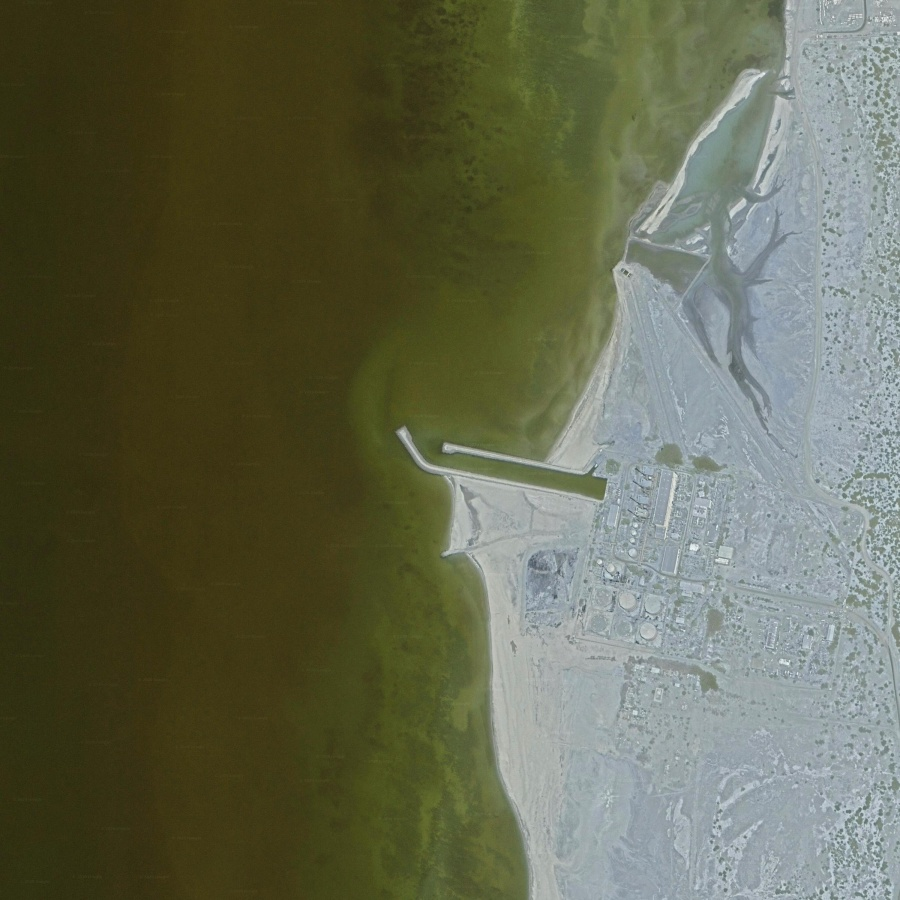PowerPlant: (514, 455, 742, 658)
